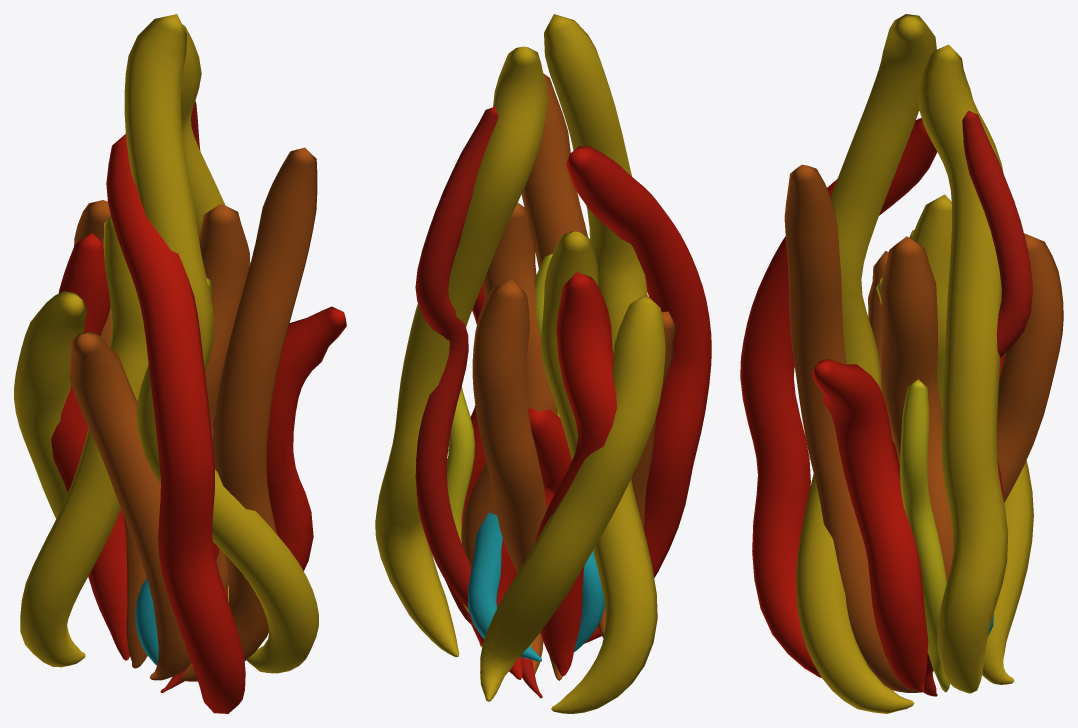
3 views of the same model, side by side, from view 1: azimuth 30°, elevation 25°; view 2: azimuth 150°, elevation 25°; view 3: azimuth 270°, elevation 25° (orthographic). The views are drawn at different scales.
Parts seen in each view (by area): view 1: Untitled_3_Toon_geo; view 2: Untitled_3_Toon_geo; view 3: Untitled_3_Toon_geo.
Part boxes in pixels (x1,y1,x2,y2): Untitled_3_Toon_geo: (14, 14, 346, 713); Untitled_3_Toon_geo: (375, 14, 711, 713); Untitled_3_Toon_geo: (740, 14, 1063, 713).
Size of the model in its own units: 0.2862 by 0.6735 by 0.2913.
